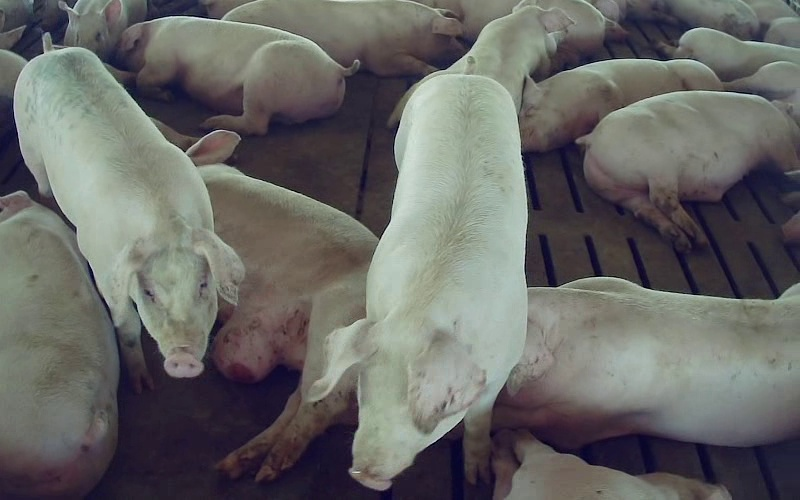pig: (312, 57, 526, 489), (14, 34, 242, 388), (187, 131, 376, 479), (493, 277, 799, 447), (116, 17, 359, 134), (389, 5, 572, 125), (519, 59, 722, 151), (224, 0, 465, 76), (658, 27, 799, 81)
